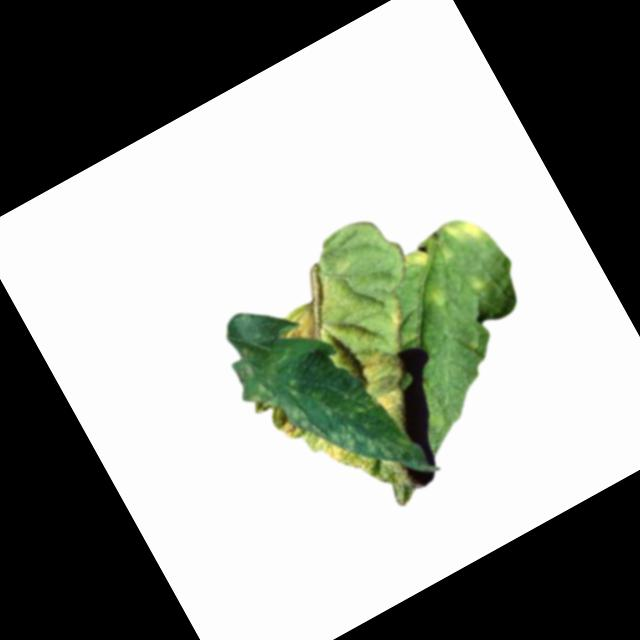Leaf_Mold: (265, 375, 383, 509), (349, 337, 426, 429), (273, 298, 336, 357), (373, 293, 422, 349), (440, 209, 488, 258), (400, 242, 438, 278), (419, 283, 455, 317)
